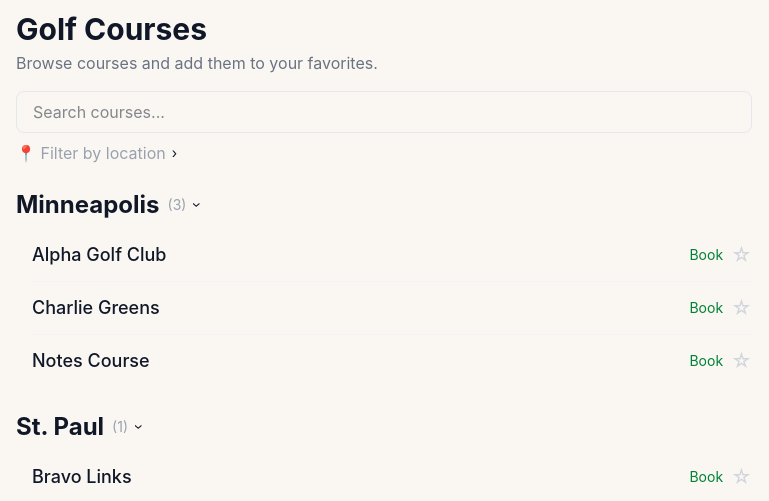
Test: CoursesPage › filters courses by name when typing in search
Type "alpha" into the field with placeholder "Search courses...".
click(384, 112); type("alpha")  # box x1=16 y1=91 x2=752 y2=133
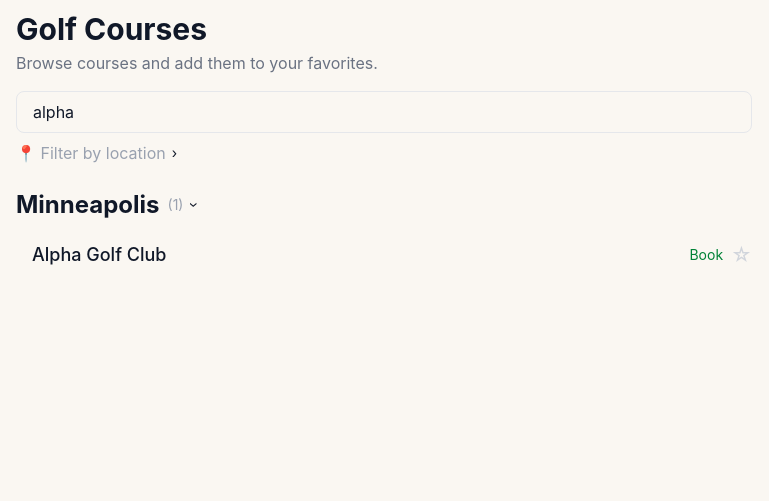
Expected: the link "Alpha Golf Club" is shown, x1=32 y1=244 x2=166 y2=265
Now the link "Bravo Links" is gone
Now the link "Charlie Greens" is gone
